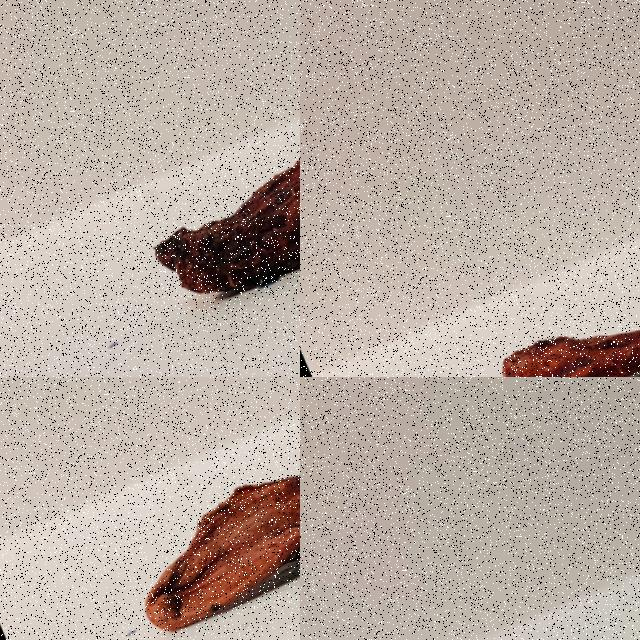Flat_cocoabeans: (69, 377, 299, 639), (91, 93, 299, 369), (408, 223, 639, 376), (370, 553, 639, 639)
